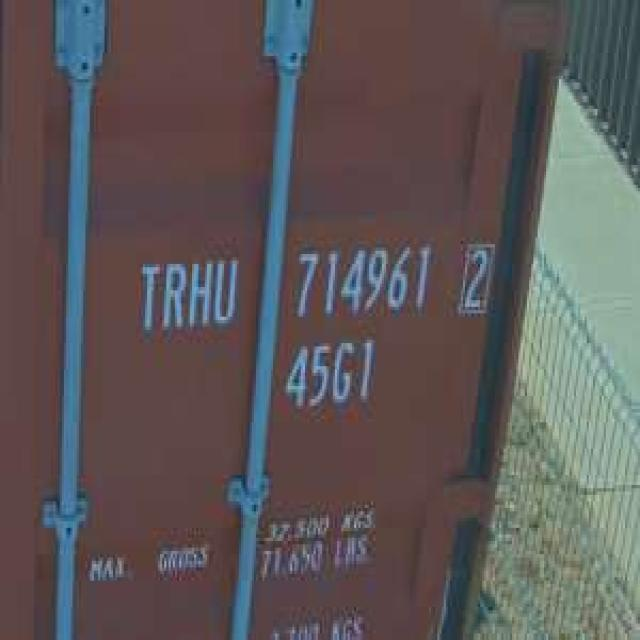dv: (456, 240, 494, 318)
owner: (133, 251, 242, 341)
serial: (291, 242, 436, 324)
size: (282, 332, 379, 417)
